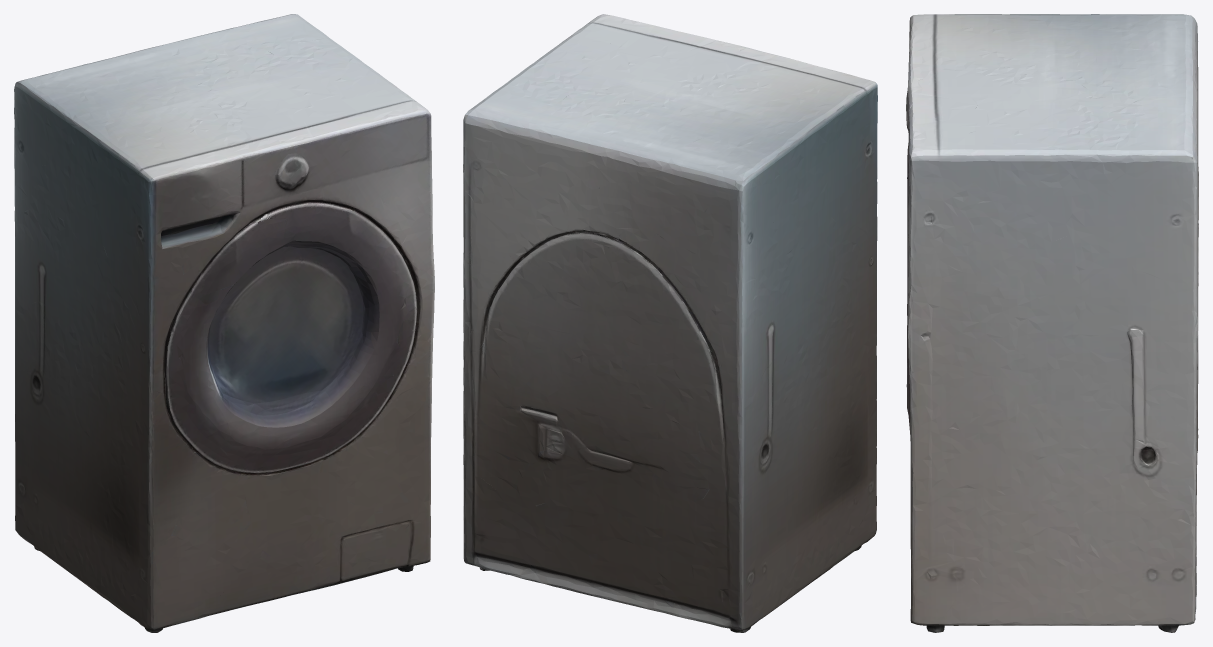
File: ast_0dfe071baec6.glb
3 views of the same model, side by side, from view 1: azimuth 30°, elevation 25°; view 2: azimuth 150°, elevation 25°; view 3: azimuth 270°, elevation 25° (orthographic). The views are drawn at different scales.
Parts seen in each view (by area): view 1: geometry_0; view 2: geometry_0; view 3: geometry_0.
Boxes of the visible parts, box(x1,y1,x2,y2) form: geometry_0: box(14, 14, 434, 632); geometry_0: box(463, 14, 877, 632); geometry_0: box(906, 14, 1198, 632).
Size of the model in its own units: 0.6346 by 0.9954 by 0.5454.
Materials: 1 (1 with a texture image).
